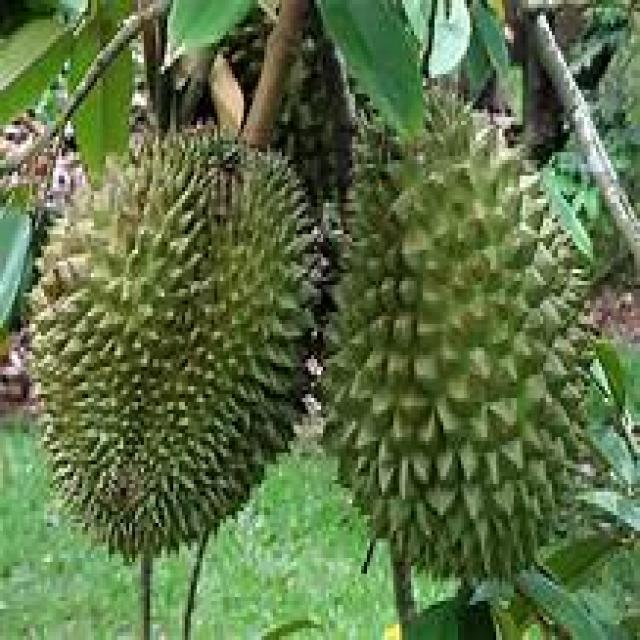immature: (318, 85, 594, 583), (28, 117, 320, 568)
